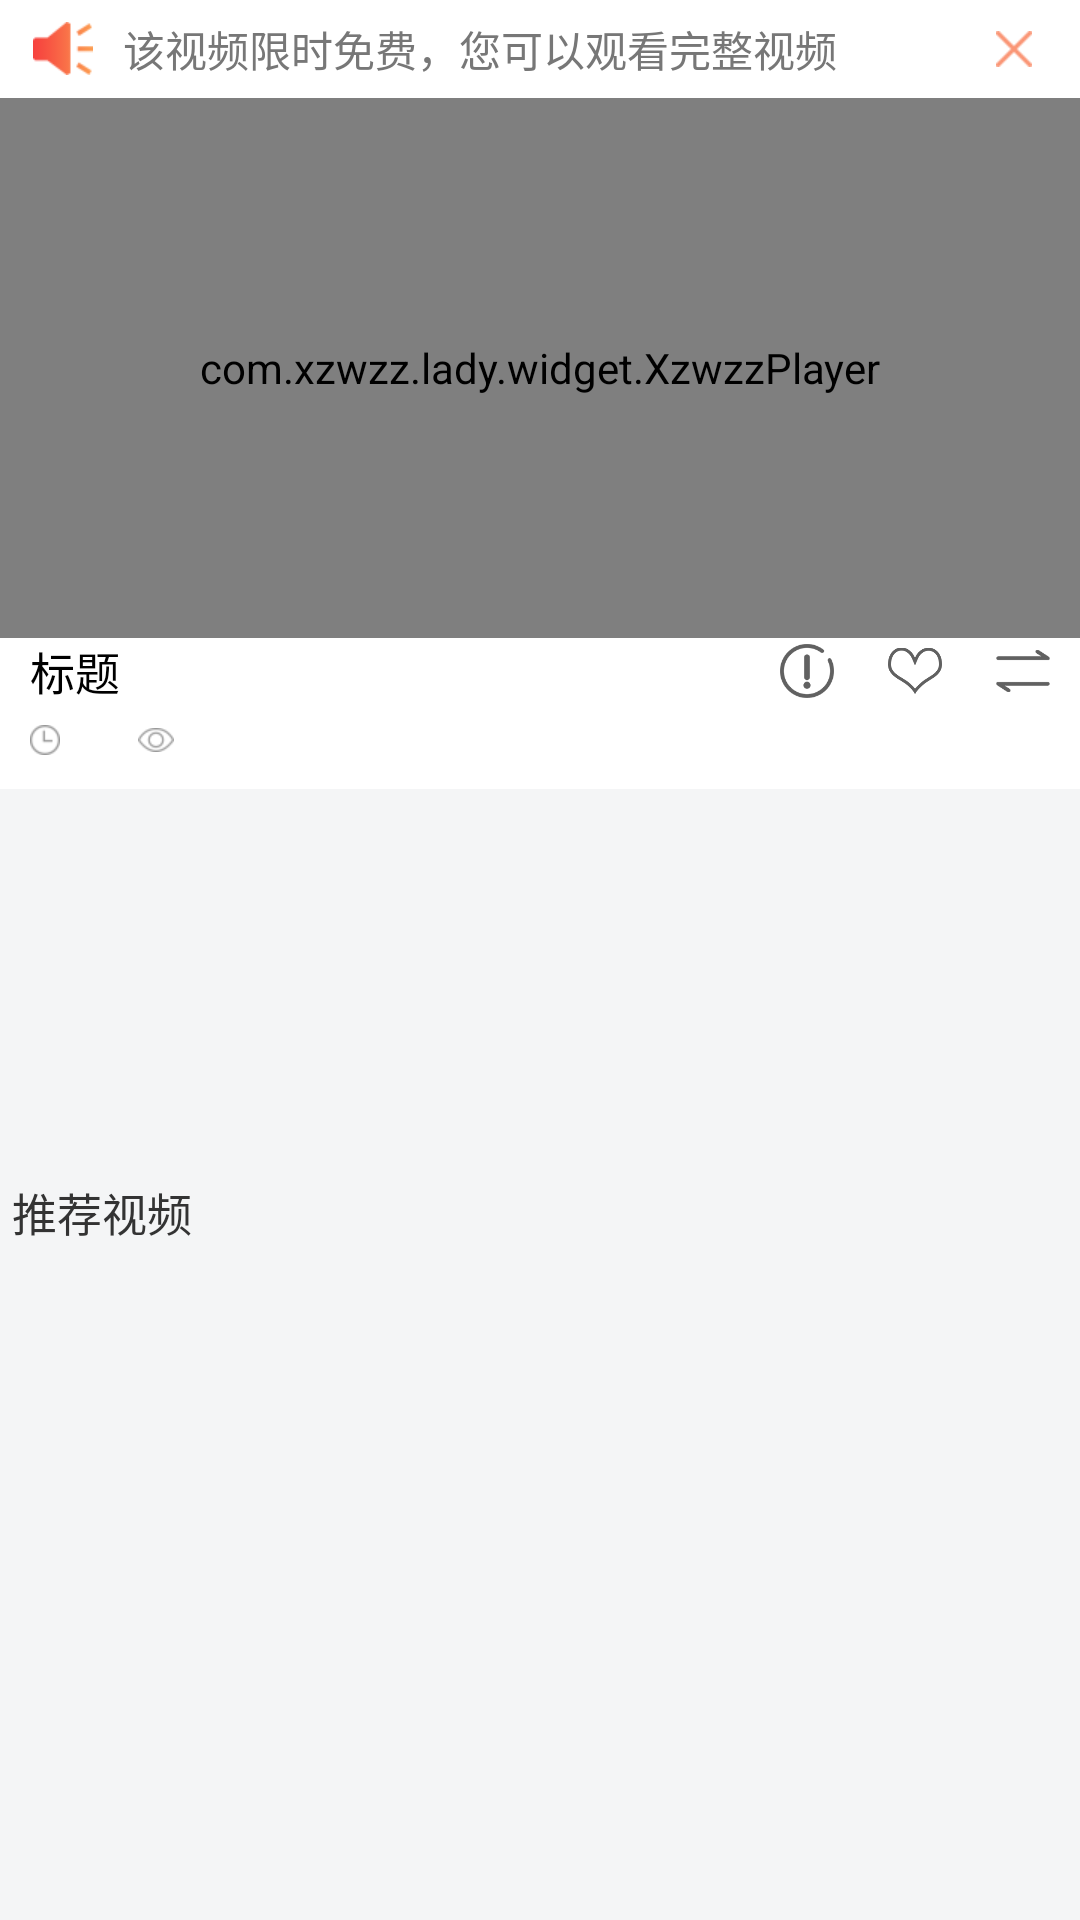

Where to tap for icons on this 1080px×1920px app screen, as point (x, y):
close: point (1014, 49)
collect false: point (915, 671)
jubao: point (807, 671)
qiehuan: point (1023, 671)
